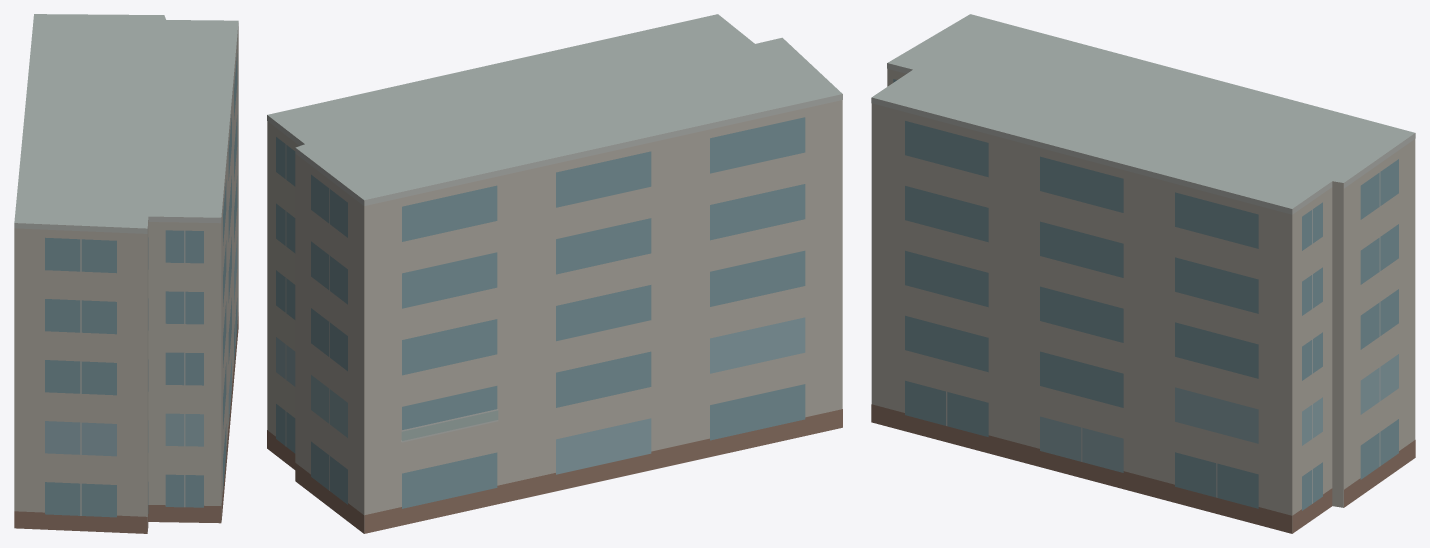
Rendered from survey-upis-32678748.glb.
3 renders of one model, left to right at view 1: azimuth 30°, elevation 25°; view 2: azimuth 150°, elevation 25°; view 3: azimuth 270°, elevation 25°, orthographic. The views are drawn at different scales.
Visible parts, largest first — view 1: survey-upis-32678748.tmp; view 2: survey-upis-32678748.tmp; view 3: survey-upis-32678748.tmp.
Part boxes in pixels (bbox=[...]): survey-upis-32678748.tmp: bbox=[14, 14, 238, 533]; survey-upis-32678748.tmp: bbox=[267, 14, 842, 533]; survey-upis-32678748.tmp: bbox=[871, 14, 1415, 533].
Bounding box in the file's own units: 17.65 × 13.7 × 20.8.
